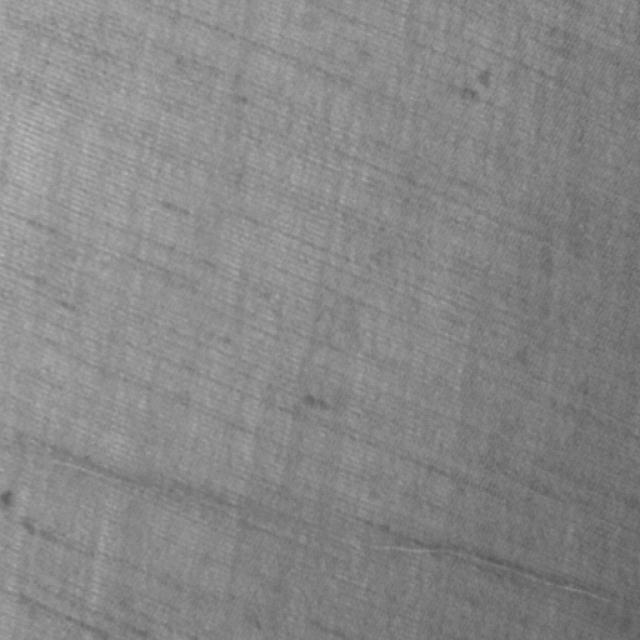objects: (0, 444, 639, 618)
